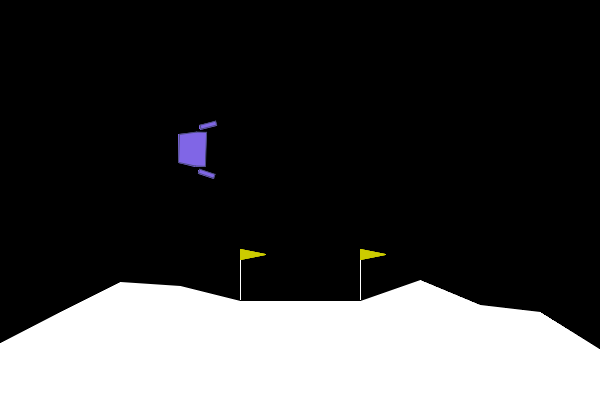lander: (175, 119, 217, 180)
